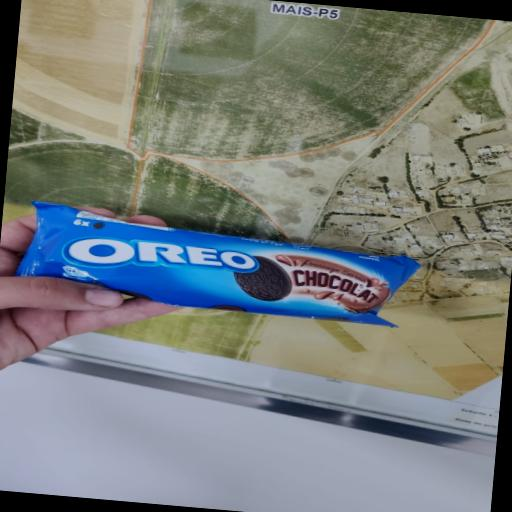oreo: (0, 157, 497, 404)
